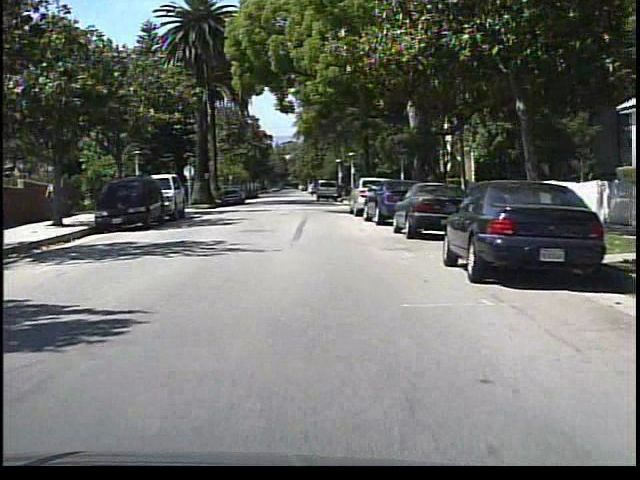person: (43, 176, 61, 224)
